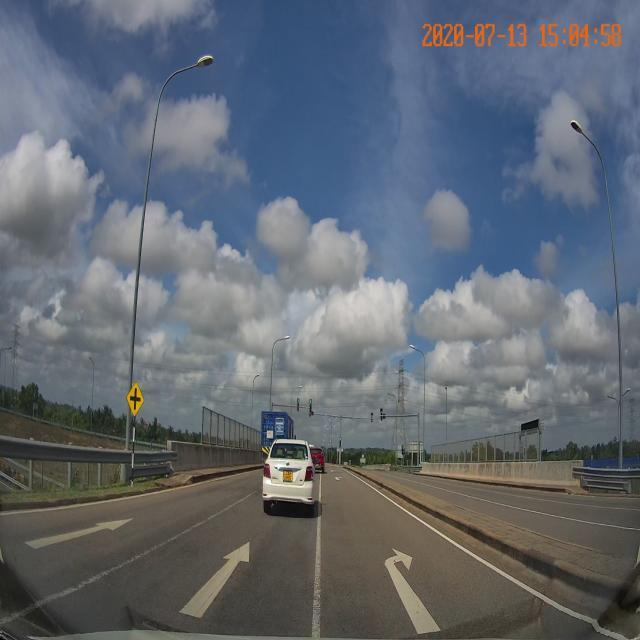forward: (58, 520, 323, 640)
